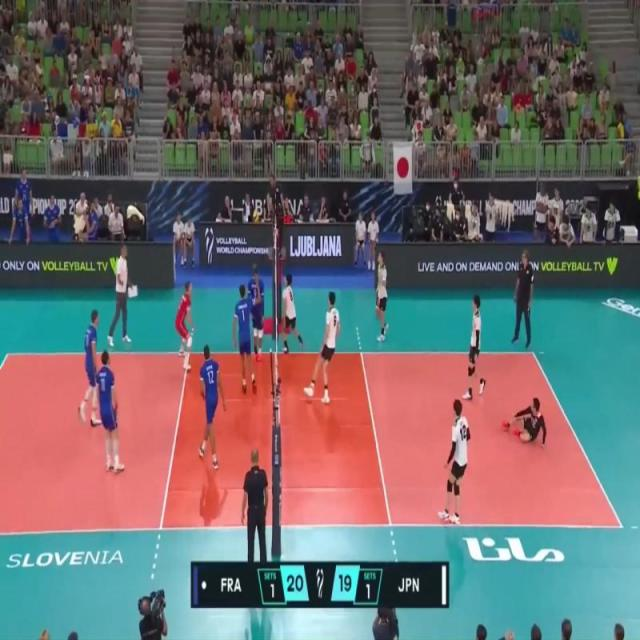volleyball: (252, 209, 260, 224)
